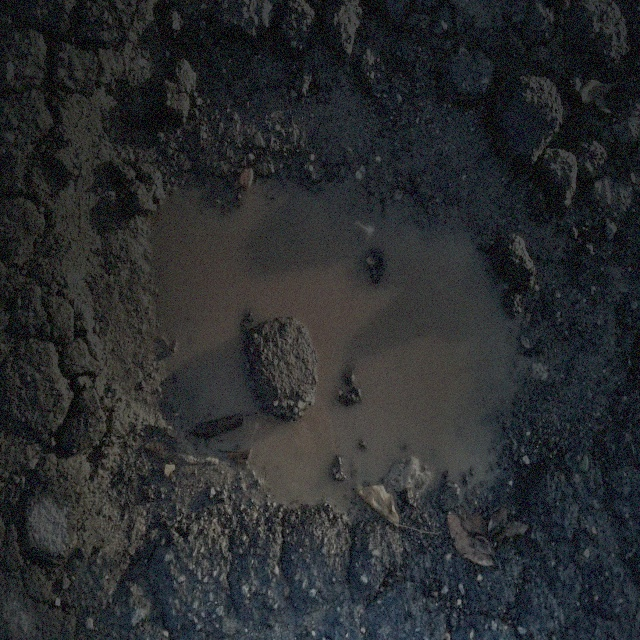pothole: (99, 42, 557, 558)
